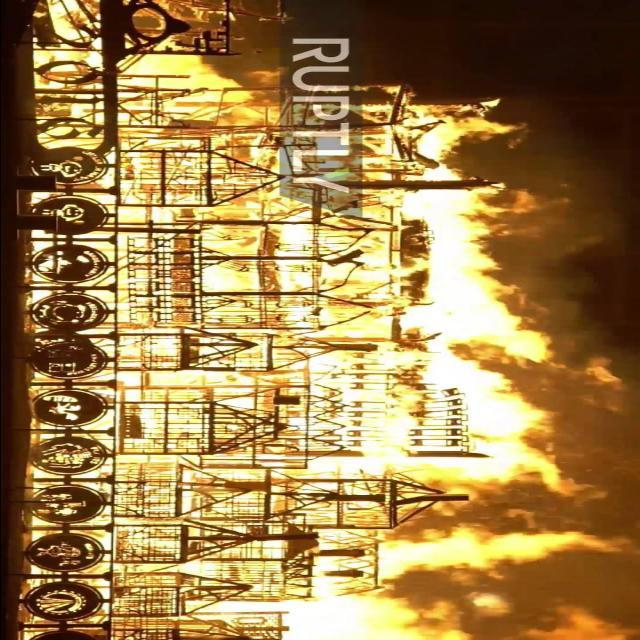Fire: (25, 31, 567, 640)
